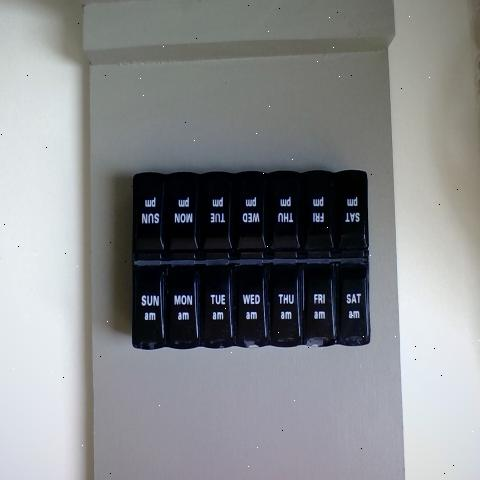FRI-am: (299, 265, 336, 343)
FRI-pm: (294, 174, 328, 261)
MON-am: (164, 268, 196, 348)
MON-pm: (163, 179, 197, 261)
PillBox: (117, 147, 381, 358)
SAT-am: (334, 264, 366, 344)
SAT-pm: (328, 175, 364, 258)
SUN-am: (131, 267, 164, 349)
SUN-pm: (134, 176, 166, 264)
THU-am: (270, 267, 298, 346)
THU-pm: (260, 175, 296, 264)
TUE-am: (196, 266, 231, 346)
TUE-pm: (198, 176, 229, 256)
WED-am: (232, 264, 264, 346)
WED-pm: (232, 175, 264, 257)
